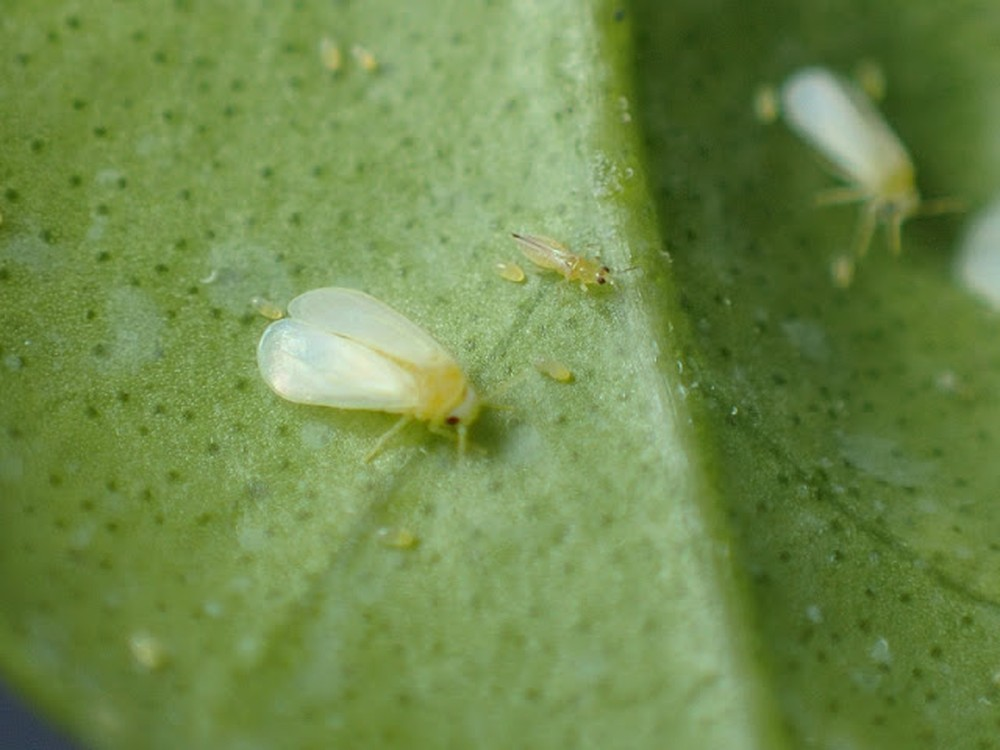Mosca Blanca: (238, 277, 522, 477), (757, 59, 992, 280)
